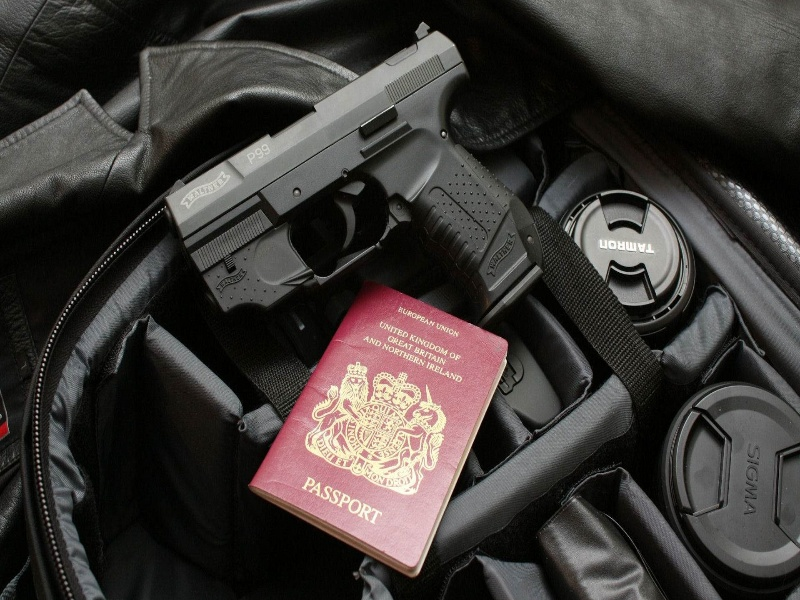weapon: (164, 20, 544, 322)
